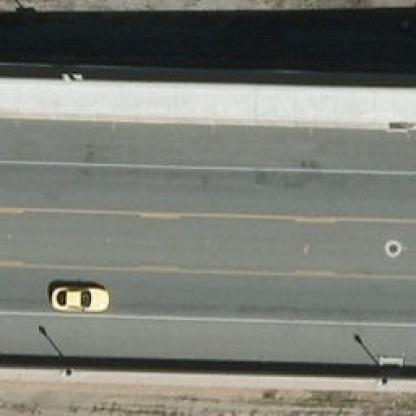car: (47, 284, 109, 312)
